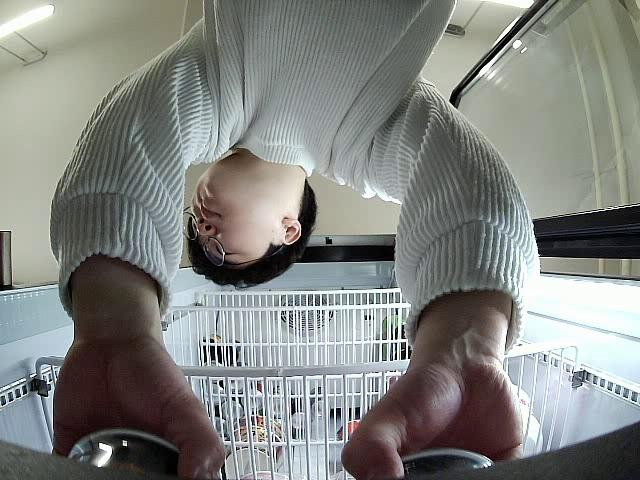00_hand: (51, 346, 230, 480), (339, 355, 524, 480)
08_buldak_S: (67, 433, 179, 479)
